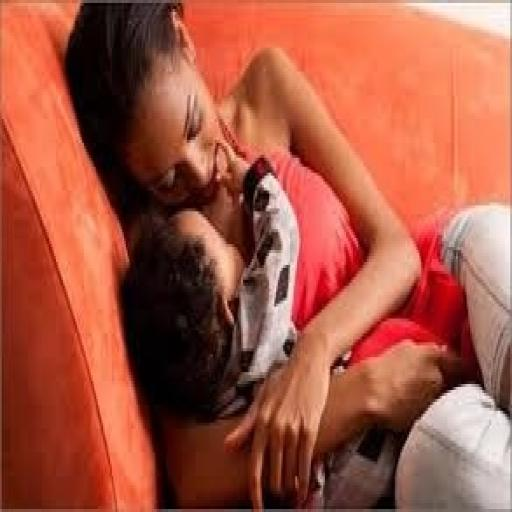hugging: (61, 0, 482, 509)
